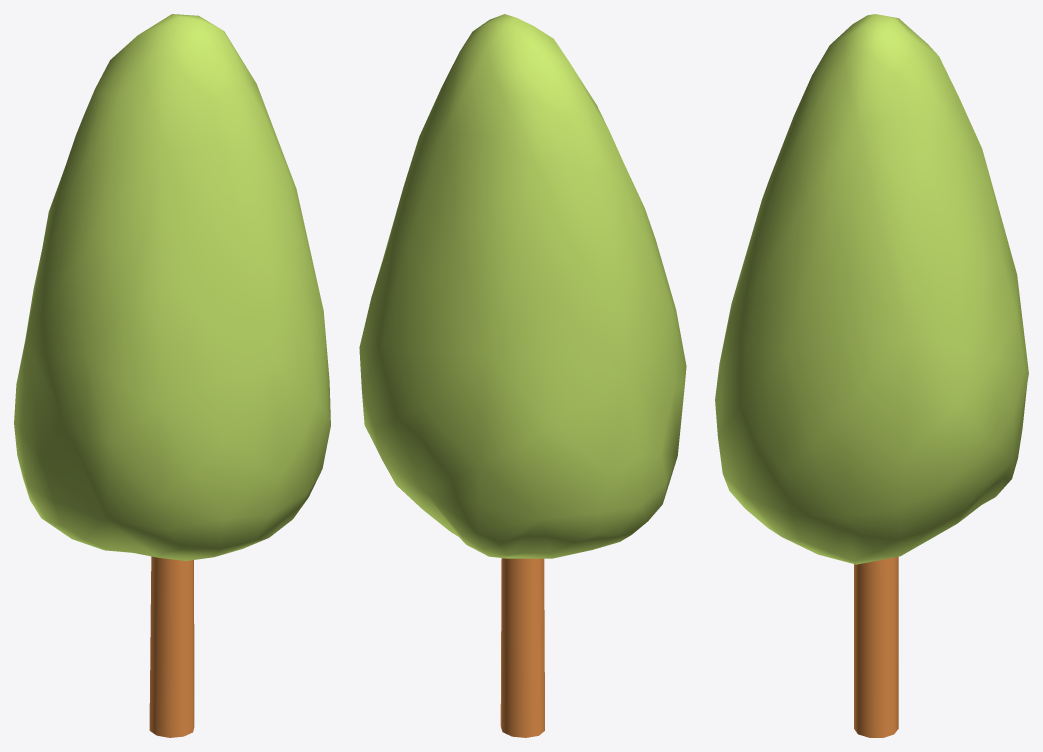
The model's file is BushTree_L.fbx.
3 renders of one model, left to right at view 1: azimuth 30°, elevation 25°; view 2: azimuth 150°, elevation 25°; view 3: azimuth 270°, elevation 25°, orthographic.
Parts seen in each view (by area): view 1: Thuja_Tree_s_01; view 2: Thuja_Tree_s_01; view 3: Thuja_Tree_s_01.
Boxes of the visible parts, x1,y1,x2,y2 form: Thuja_Tree_s_01: (14,14,330,737); Thuja_Tree_s_01: (359,14,686,737); Thuja_Tree_s_01: (715,14,1028,737).
Bounding box in the file's own units: 92.21 × 228 × 90.47.
